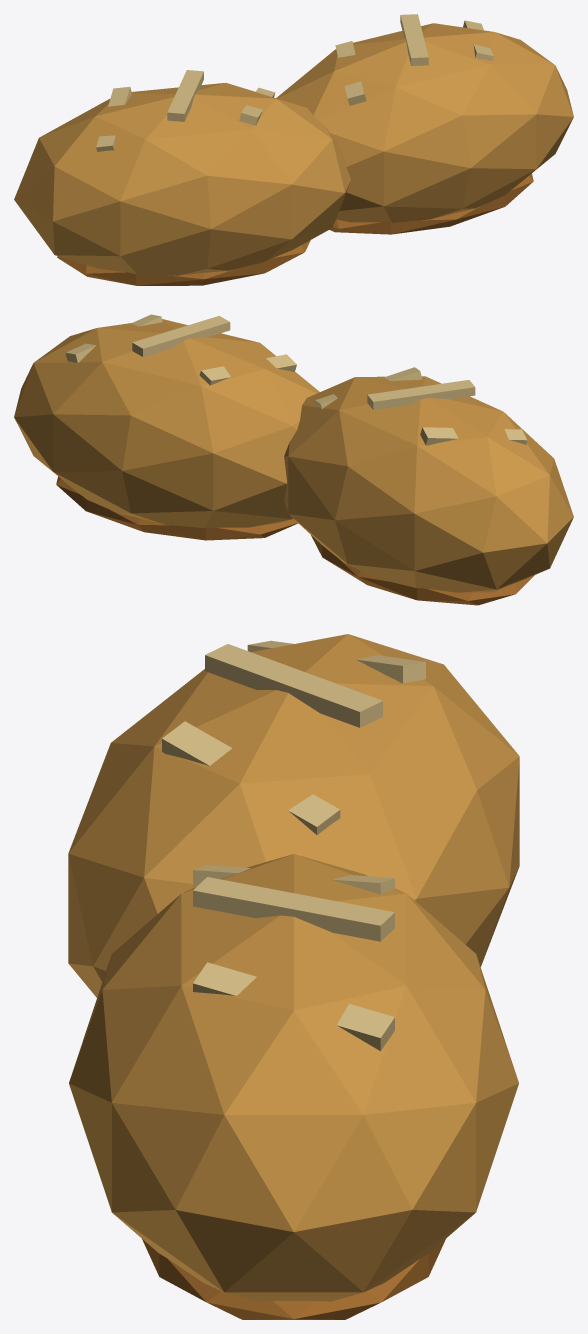
File: pile-bread-2.gltf
The picture shows the model from 3 angles, top to bottom: view 1: azimuth 30°, elevation 25°; view 2: azimuth 150°, elevation 25°; view 3: azimuth 270°, elevation 25°; orthographic projection. The views are drawn at different scales.
Parts seen in each view (by area): view 1: pile-bread-2; view 2: pile-bread-2; view 3: pile-bread-2.
Boxes of the visible parts, x1,y1,x2,y2 form: pile-bread-2: [14, 14, 573, 285]; pile-bread-2: [14, 314, 573, 605]; pile-bread-2: [68, 634, 519, 1319].
Size of the model in its own units: 0.6221 by 0.2025 by 0.2306.
